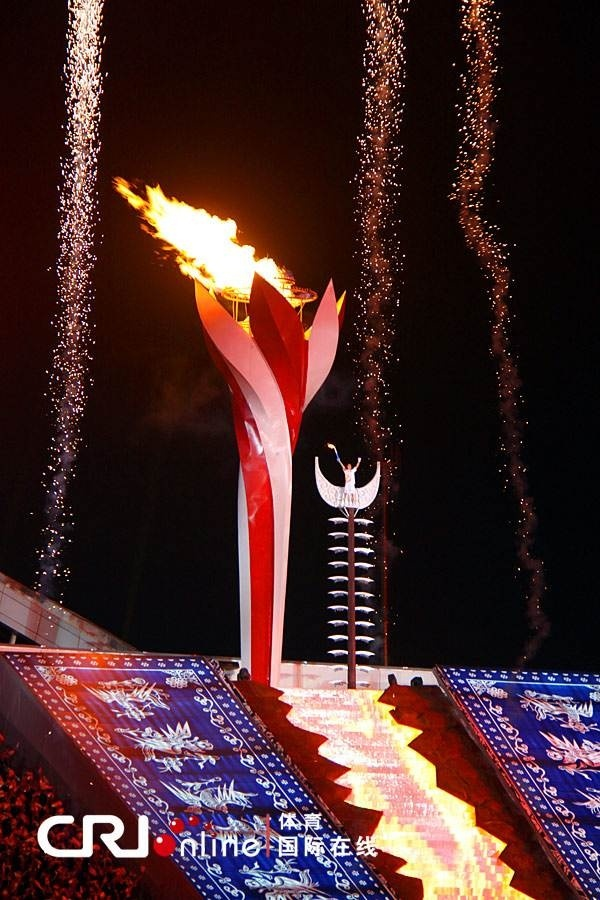fire: (117, 173, 305, 305)
